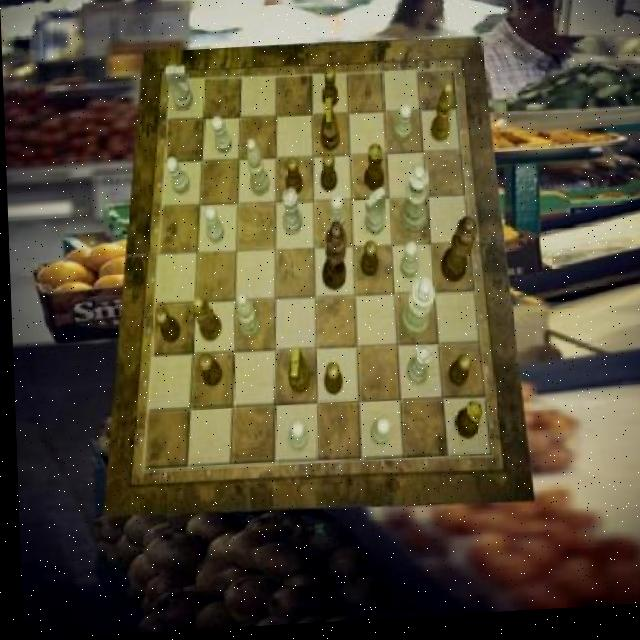bishop: (428, 88, 452, 148), (192, 298, 221, 345)
black-bishop: (319, 224, 348, 296)
black-king: (284, 351, 308, 397), (319, 101, 339, 156)
black-knight: (152, 309, 178, 345), (195, 355, 219, 390), (445, 357, 469, 392), (358, 244, 377, 281), (319, 157, 337, 196), (321, 72, 338, 113), (285, 160, 303, 198), (322, 366, 340, 401)
black-pawn: (438, 221, 477, 289)
black-queen: (451, 406, 482, 446), (362, 149, 383, 197)
black-rook: (246, 140, 270, 199), (233, 294, 258, 342)
white-bishop: (397, 282, 434, 343)
white-king: (164, 67, 192, 114), (361, 192, 385, 240)
white-knight: (165, 158, 189, 196), (211, 119, 232, 157), (202, 207, 222, 246), (392, 109, 412, 147), (398, 247, 417, 284), (285, 423, 305, 457), (325, 200, 344, 235), (367, 421, 388, 450)
white-pawn: (398, 170, 430, 238)
white-queen: (405, 349, 432, 391), (280, 192, 301, 239)
